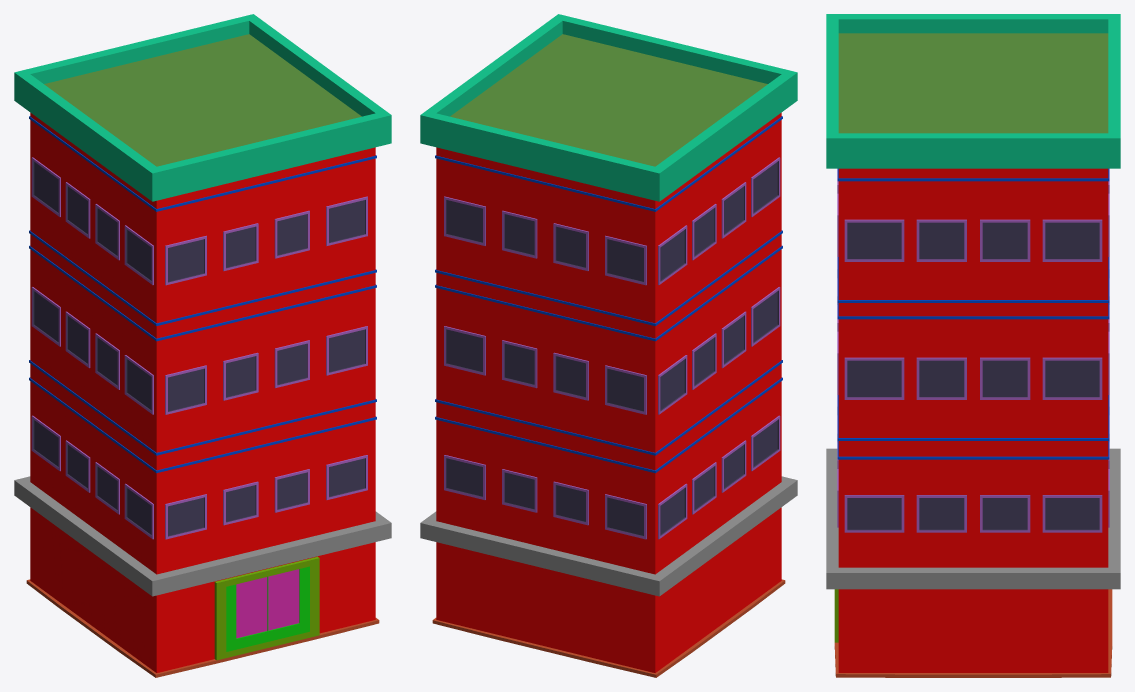
Rendered from Building_05.fbx.
The picture shows the model from 3 angles, left to right: view 1: azimuth 30°, elevation 25°; view 2: azimuth 150°, elevation 25°; view 3: azimuth 270°, elevation 25°; orthographic projection. The views are drawn at different scales.
Visible parts, largest first — view 1: Box001; view 2: Box001; view 3: Box001.
Part boxes in pixels (x1=…): Box001: x1=14, y1=14, x2=391, y2=677; Box001: x1=420, y1=14, x2=797, y2=677; Box001: x1=826, y1=14, x2=1120, y2=677.
Size of the model in its own units: 430 by 430 by 875.
